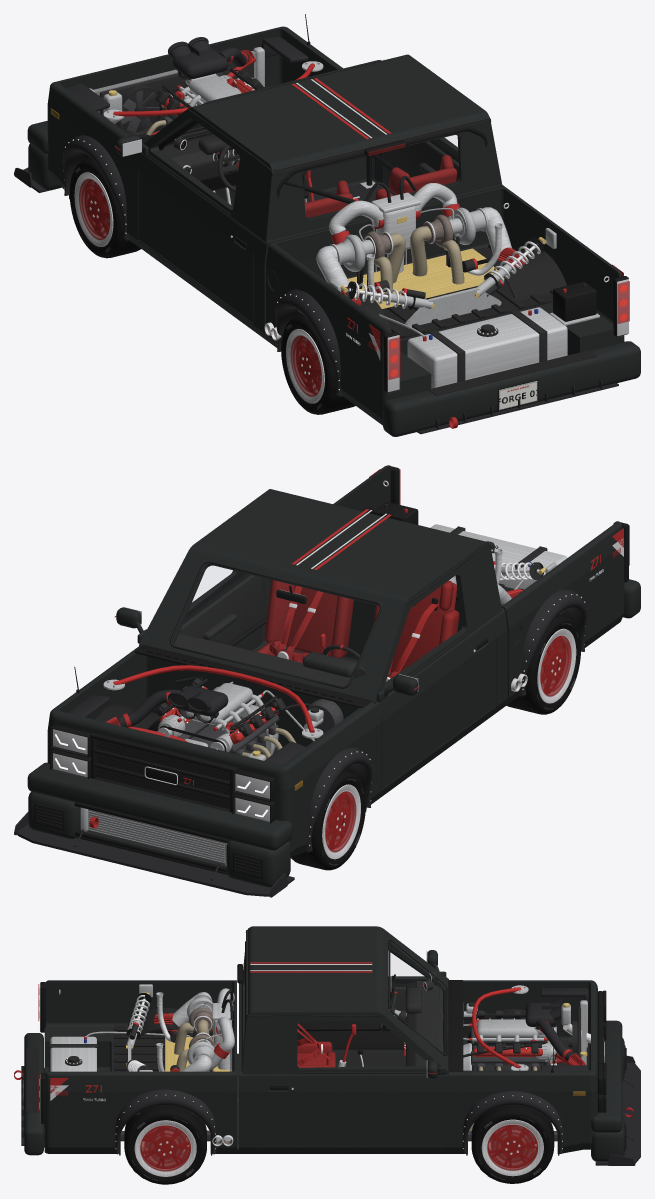
The model's file is acf_blackout_pickup.glb.
3 renders of one model, top to bottom at view 1: azimuth 30°, elevation 25°; view 2: azimuth 150°, elevation 25°; view 3: azimuth 270°, elevation 25°, orthographic. The views are drawn at different scales.
Visible parts, largest first — view 1: BODY_SHELL, BODY_CAB_TOP, REAR_BUMPER, BED_FUEL_CELL, INT_DASH, BODY_FLARES, ENGINE_CARBON_AIRBOX, TURBO_CHARGE_PIPES, BED_SMALL_ALU, BED_FLOOR_RIBS, TURBO_HEAT_SHIELD, BODY_WHEELHOUSES (+30 smaller); view 2: BODY_SHELL, BODY_CAB_TOP, FRONT_BUMPER, INT_SEATS, INT_DASH, FRONT_SPLITTER, BODY_FLARES, FRONT_GRILLE_MESH, FRONT_GRILLE_FRAME, ENGINE_CARBON_AIRBOX, FRONT_INTERCOOLER_CORE, FRONT_BUMPER_TRIM (+25 smaller); view 3: BODY_SHELL, BODY_CAB_TOP, INT_DASH, BODY_FLARES, FRONT_BUMPER, WHEEL_RR_TYRE, WHEEL_RF_TYRE, ENGINE_CARBON_AIRBOX, RIM_BLUR_RR, RIM_BLUR_RF, FRONT_SPLITTER, DETAIL_BODY_HARDWARE (+32 smaller).
Part boxes in pixels (x1=…): BODY_SHELL: x1=47, y1=26, x2=624, y2=425; BODY_CAB_TOP: x1=144, y1=54, x2=502, y2=241; REAR_BUMPER: x1=383, y1=341, x2=640, y2=436; BED_FUEL_CELL: x1=407, y1=307, x2=567, y2=388; INT_DASH: x1=160, y1=117, x2=487, y2=190; BODY_FLARES: x1=63, y1=135, x2=343, y2=395; ENGINE_CARBON_AIRBOX: x1=66, y1=36, x2=308, y2=111; TURBO_CHARGE_PIPES: x1=316, y1=183, x2=511, y2=290; BED_SMALL_ALU: x1=329, y1=228, x2=599, y2=327; BED_FLOOR_RIBS: x1=297, y1=244, x2=553, y2=339; TURBO_HEAT_SHIELD: x1=348, y1=248, x2=504, y2=308; BODY_WHEELHOUSES: x1=69, y1=134, x2=566, y2=397; BODY_SHELL: x1=47, y1=465, x2=624, y2=857; BODY_CAB_TOP: x1=139, y1=489, x2=502, y2=703; FRONT_BUMPER: x1=27, y1=762, x2=292, y2=887; INT_SEATS: x1=257, y1=580, x2=459, y2=678; INT_DASH: x1=174, y1=574, x2=356, y2=686; FRONT_SPLITTER: x1=14, y1=804, x2=294, y2=897; BODY_FLARES: x1=306, y1=589, x2=586, y2=851; FRONT_GRILLE_MESH: x1=96, y1=739, x2=229, y2=808; FRONT_GRILLE_FRAME: x1=90, y1=732, x2=237, y2=812; ENGINE_CARBON_AIRBOX: x1=68, y1=685, x2=305, y2=764; FRONT_INTERCOOLER_CORE: x1=88, y1=809, x2=224, y2=863; FRONT_BUMPER_TRIM: x1=34, y1=802, x2=263, y2=879; BODY_SHELL: x1=44, y1=980, x2=597, y2=1153; BODY_CAB_TOP: x1=242, y1=926, x2=448, y2=1074; INT_DASH: x1=246, y1=930, x2=443, y2=1066; BODY_FLARES: x1=115, y1=1089, x2=563, y2=1154; FRONT_BUMPER: x1=591, y1=1020, x2=624, y2=1161; WHEEL_RR_TYRE: x1=124, y1=1105, x2=206, y2=1184; WHEEL_RF_TYRE: x1=471, y1=1105, x2=554, y2=1183; ENGINE_CARBON_AIRBOX: x1=525, y1=988, x2=588, y2=1070; RIM_BLUR_RR: x1=139, y1=1124, x2=191, y2=1171; RIM_BLUR_RF: x1=486, y1=1124, x2=538, y2=1171; FRONT_SPLITTER: x1=595, y1=1055, x2=640, y2=1165; DETAIL_BODY_HARDWARE: x1=270, y1=980, x2=557, y2=1090.
Bounding box in the file's own units: 2.42 × 1.6 × 5.38.
45 materials, 45 textured.
